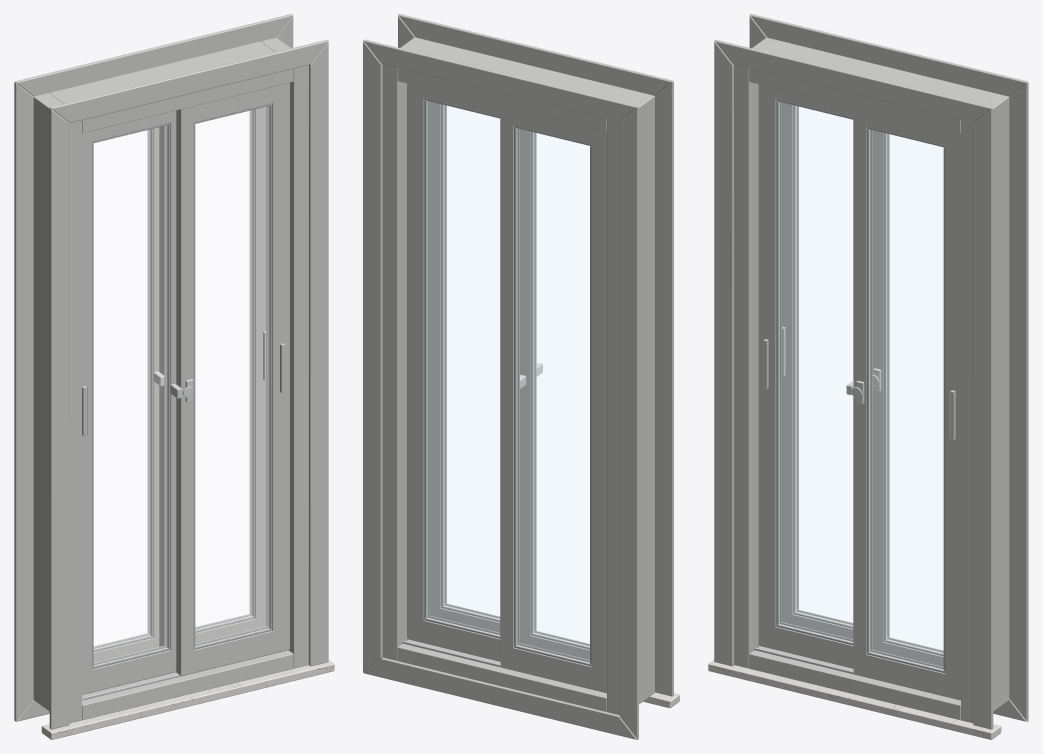
Rendered from mk_win_curve_2.glb.
3 views of the same model, side by side, from view 1: azimuth 30°, elevation 25°; view 2: azimuth 150°, elevation 25°; view 3: azimuth 330°, elevation 25° (orthographic).
Visible parts, largest first — view 1: mk_win_curve_2_glass, mk_win_curve_2_casing, mk_win_curve_2_frame, mk_win_curve_2_sash_inner_r, mk_win_curve_2_sash_inner_l, mk_win_curve_2_sash_outer_r, mk_win_curve_2_sash_outer_l, mk_win_curve_2_sill, mk_win_curve_2_hardware; view 2: mk_win_curve_2_glass, mk_win_curve_2_casing, mk_win_curve_2_frame, mk_win_curve_2_sash_outer_l, mk_win_curve_2_sash_outer_r, mk_win_curve_2_sash_inner_r, mk_win_curve_2_sash_inner_l; view 3: mk_win_curve_2_glass, mk_win_curve_2_casing, mk_win_curve_2_frame, mk_win_curve_2_sash_inner_r, mk_win_curve_2_sash_inner_l, mk_win_curve_2_sash_outer_r, mk_win_curve_2_sash_outer_l, mk_win_curve_2_sill, mk_win_curve_2_hardware.
Part boxes in pixels (<box>): mk_win_curve_2_glass: <box>94,106,269,665</box>; mk_win_curve_2_casing: <box>14,14,328,729</box>; mk_win_curve_2_frame: <box>33,37,308,723</box>; mk_win_curve_2_sash_inner_r: <box>176,83,289,675</box>; mk_win_curve_2_sash_inner_l: <box>82,110,176,694</box>; mk_win_curve_2_sash_outer_r: <box>159,106,266,646</box>; mk_win_curve_2_sash_outer_l: <box>93,127,159,662</box>; mk_win_curve_2_sill: <box>41,660,334,739</box>; mk_win_curve_2_hardware: <box>82,331,285,435</box>; mk_win_curve_2_glass: <box>427,101,589,662</box>; mk_win_curve_2_casing: <box>363,14,673,739</box>; mk_win_curve_2_frame: <box>382,37,654,714</box>; mk_win_curve_2_sash_outer_l: <box>500,106,606,692</box>; mk_win_curve_2_sash_outer_r: <box>407,83,500,661</box>; mk_win_curve_2_sash_inner_r: <box>430,101,500,632</box>; mk_win_curve_2_sash_inner_l: <box>520,129,589,659</box>; mk_win_curve_2_glass: <box>779,102,943,669</box>; mk_win_curve_2_casing: <box>714,14,1028,729</box>; mk_win_curve_2_frame: <box>734,37,1009,723</box>; mk_win_curve_2_sash_inner_r: <box>853,107,960,699</box>; mk_win_curve_2_sash_inner_l: <box>758,84,853,668</box>; mk_win_curve_2_sash_outer_r: <box>872,130,943,666</box>; mk_win_curve_2_sash_outer_l: <box>782,102,853,639</box>; mk_win_curve_2_sill: <box>708,660,1001,739</box>; mk_win_curve_2_hardware: <box>763,326,955,440</box>.
Size of the model in its own units: 0.9837 by 2.12 by 0.242.
6 materials, 1 textured.
